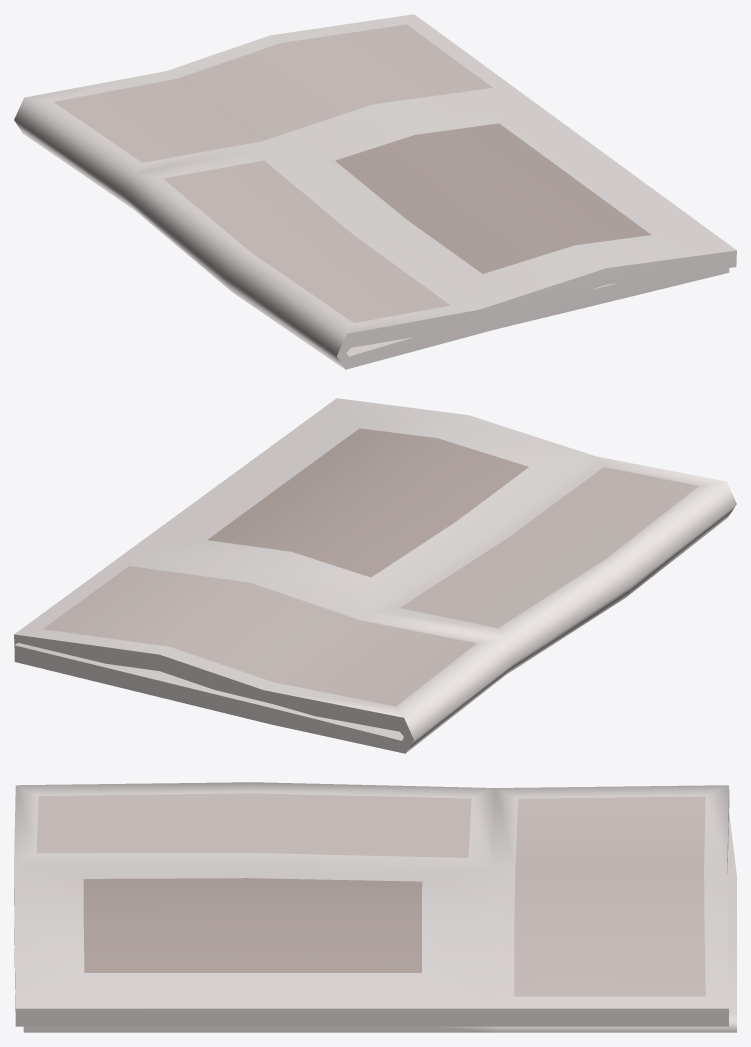
The model's file is Newspaper_02.fbx.
The picture shows the model from 3 angles, top to bottom: view 1: azimuth 30°, elevation 25°; view 2: azimuth 150°, elevation 25°; view 3: azimuth 270°, elevation 25°; orthographic projection. The views are drawn at different scales.
Parts seen in each view (by area): view 1: Newspaper_02; view 2: Newspaper_02; view 3: Newspaper_02.
Part boxes in pixels (x1,y1,x2,y2): Newspaper_02: (14, 14, 736, 369); Newspaper_02: (14, 398, 736, 753); Newspaper_02: (14, 782, 736, 1032).
Size of the model in its own units: 22.33 by 31.19 by 2.03.
